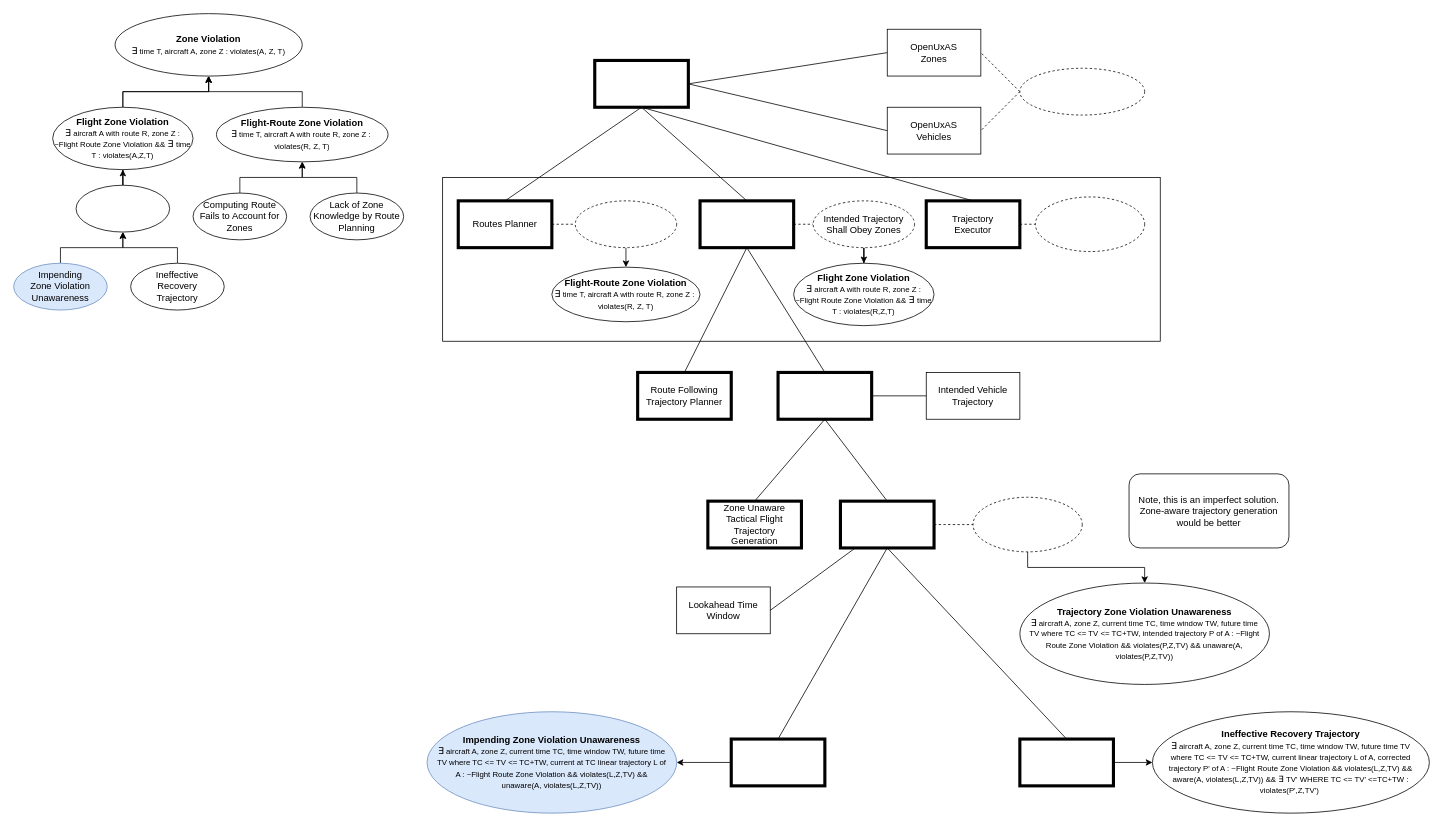
Image size: 1443x827. Some labels were removed from this diagram. Here are the shapes that lost their labels. From the top down, the centre of each, then its label:
At point (641, 83): "Three-Tiered Flight Control".
At point (1082, 91): "Vehicles Shall Not Violate Zones".
At point (122, 208): "Trajectory Zone Violation Unawareness".
At point (625, 224): "Route Planner Shall Obey Zones".
At point (746, 224): "Trajectory Planner".
At point (1090, 224): "Inner Loop Accuracy for Trajectory Control".
At point (824, 395): "Free-Flight Trajectory Planner".
At point (886, 524): "Impending Zone Violation Detection and Recovery".
At point (1027, 524): "detect and avoid trajectories that will violate zones".
At point (777, 762): "Current Linear Trajectory Zone Violation Detection".
At point (1066, 762): "Impending Zone Violation Recovery".
